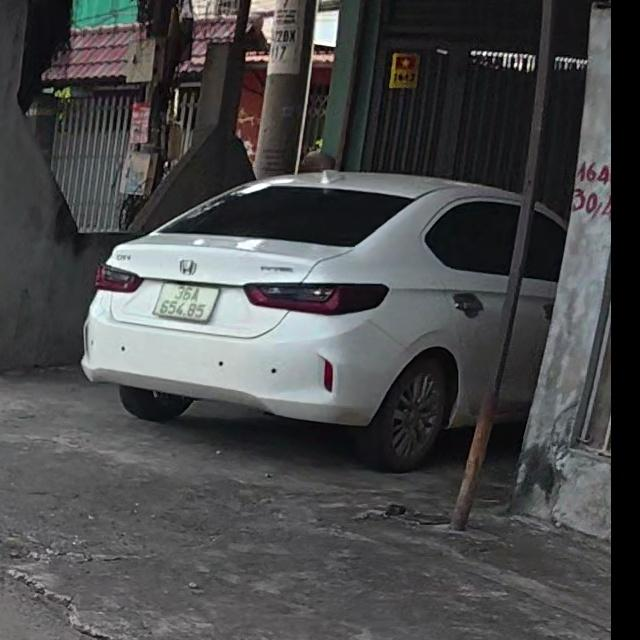license-plate: (152, 281, 219, 323)
